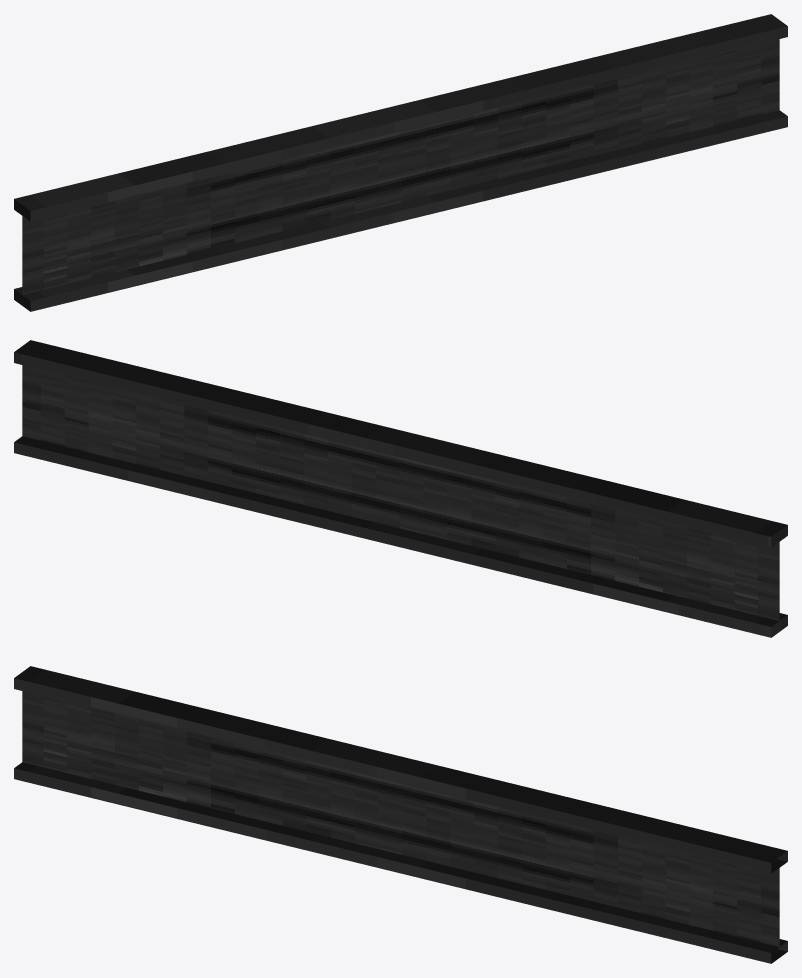
File: puerta.obj
3 views of the same model, one above another, from view 1: azimuth 30°, elevation 25°; view 2: azimuth 150°, elevation 25°; view 3: azimuth 330°, elevation 25° (orthographic).
Parts seen in each view (by area): view 1: Object002; view 2: Object002; view 3: Object002.
Boxes of the visible parts, box(x1,y1,x2,y2) form: Object002: box(14, 14, 787, 311); Object002: box(14, 340, 787, 637); Object002: box(14, 666, 787, 963).
Size of the model in its own units: 21.99 by 2.8 by 0.8334.
Materials: 1 (1 with a texture image).
